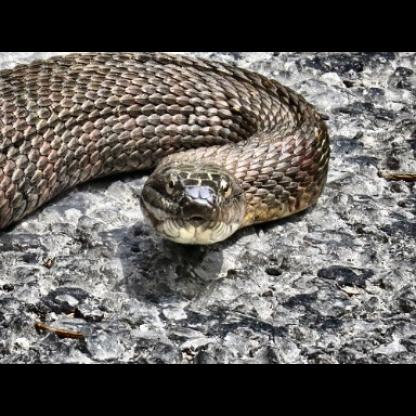Snake: (0, 57, 334, 251)
